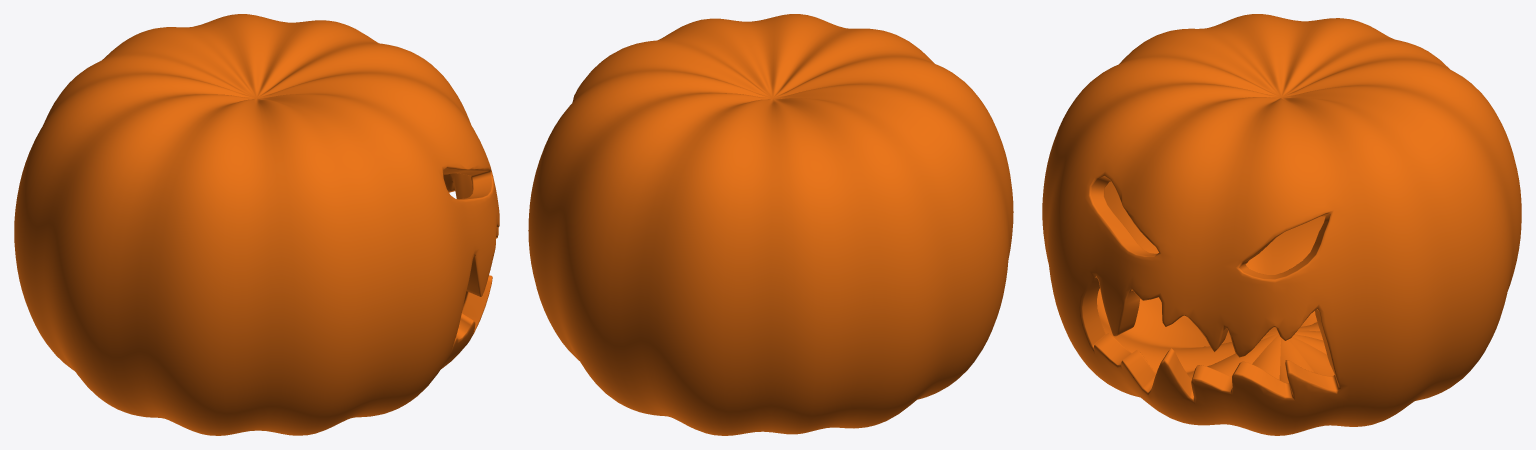
File: Pumpkin3.glb
The picture shows the model from 3 angles, left to right: view 1: azimuth 30°, elevation 25°; view 2: azimuth 150°, elevation 25°; view 3: azimuth 270°, elevation 25°; orthographic projection.
Visible parts, largest first — view 1: Pumpkin.001; view 2: Pumpkin.001; view 3: Pumpkin.001.
Boxes of the visible parts, <box> form: Pumpkin.001: <box>14,14,499,435</box>; Pumpkin.001: <box>528,14,1013,435</box>; Pumpkin.001: <box>1042,14,1521,435</box>.
Bounding box in the file's own units: 2.41 × 1.67 × 2.39.
